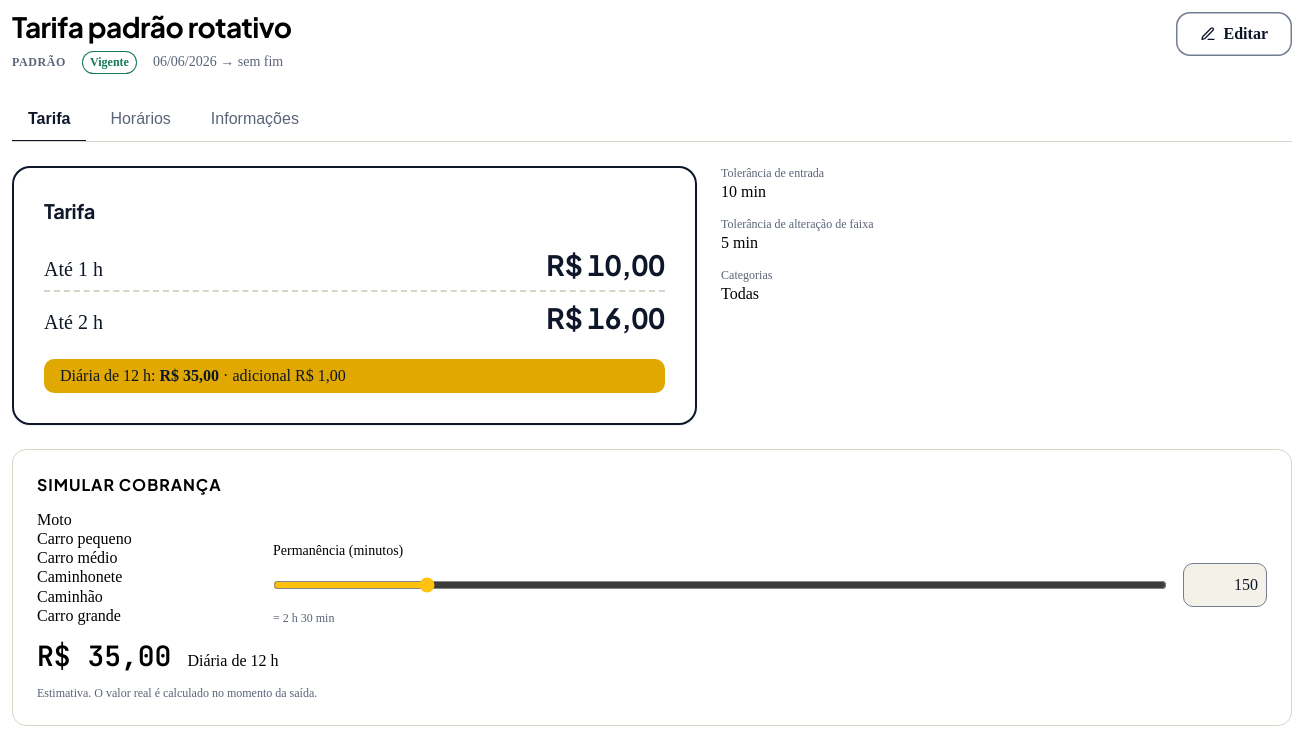
PrecoDetalhe: abas › Informações mostra os dados cadastrais
Click the tab "Informações" at (255, 120), box x1=195 y1=98 x2=315 y2=142
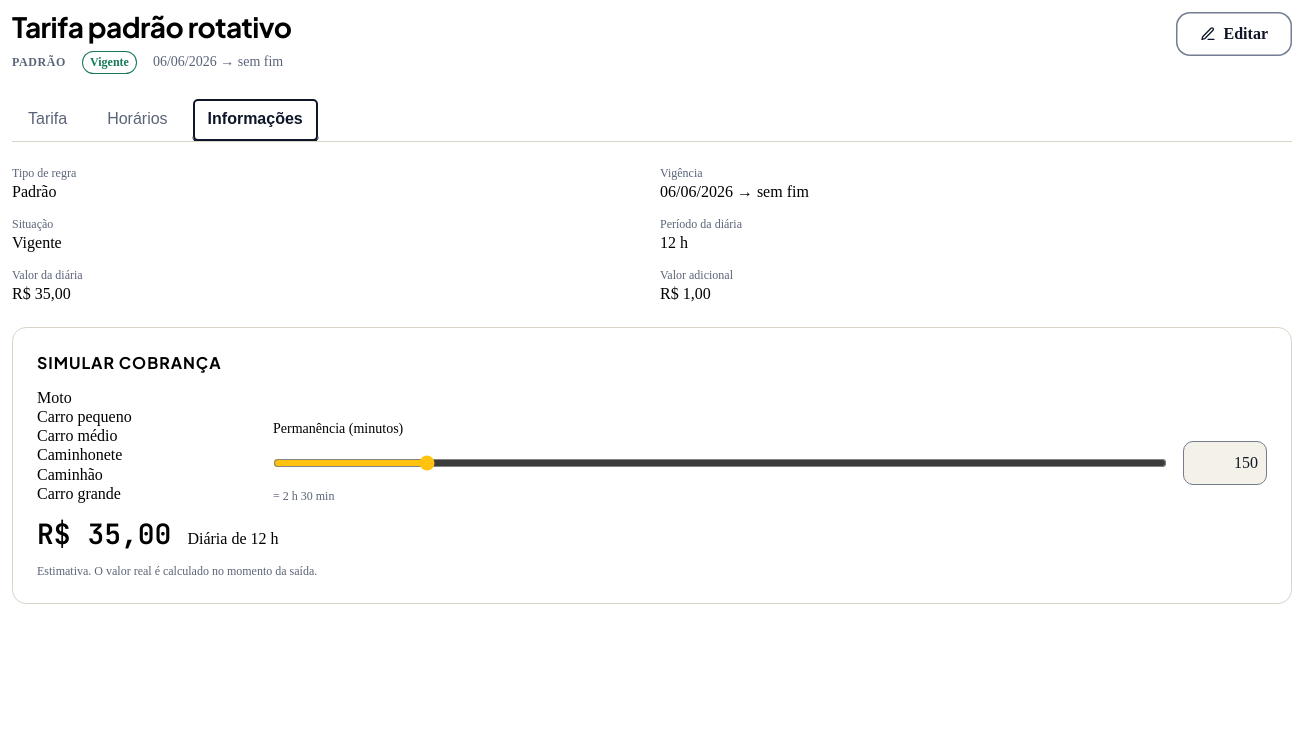
Expected: the text "Padrão" below "Tipo de regra" is shown, x1=12 y1=183 x2=56 y2=200
Expected: the text "06/06/2026 → sem fim" below "Vigência" is shown, x1=660 y1=183 x2=809 y2=200
Expected: the text "Vigente" below "Situação" is shown, x1=12 y1=234 x2=62 y2=251
